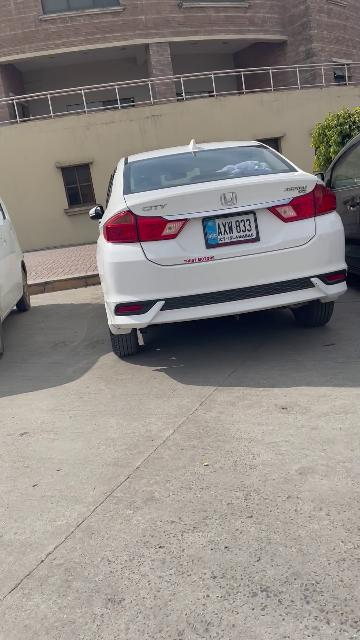plate: (202, 210, 260, 249)
